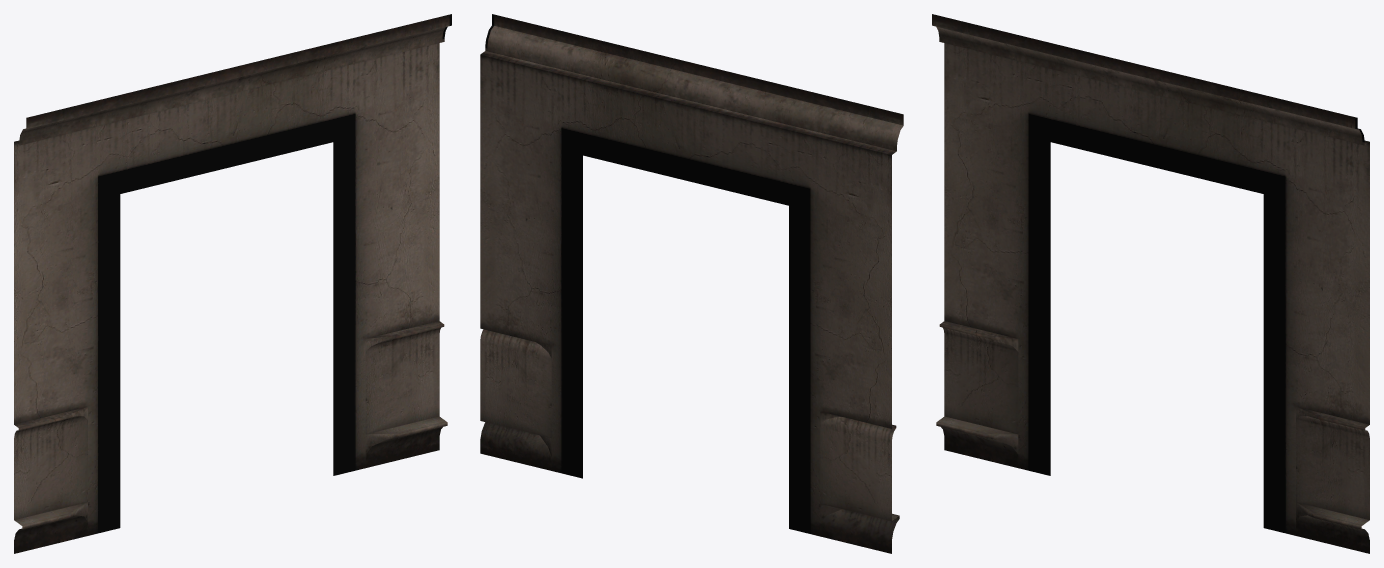
The model's file is 42_door_way.dae.
The picture shows the model from 3 angles, left to right: view 1: azimuth 30°, elevation 25°; view 2: azimuth 150°, elevation 25°; view 3: azimuth 330°, elevation 25°; orthographic projection. The views are drawn at different scales.
Visible parts, largest first — view 1: mansionbase_doorway; view 2: mansionbase_doorway; view 3: mansionbase_doorway.
Part boxes in pixels (left/top/right/bottom): mansionbase_doorway: left=14, top=14, right=451, bottom=553; mansionbase_doorway: left=480, top=14, right=903, bottom=553; mansionbase_doorway: left=932, top=14, right=1369, bottom=553.
Bounding box in the file's own units: 4 × 4 × 0.2011.
Materials: 1 (1 with a texture image).
